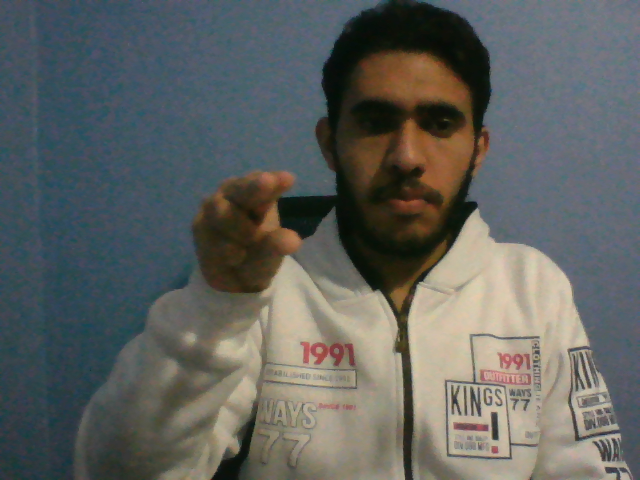no: (179, 167, 306, 306)
